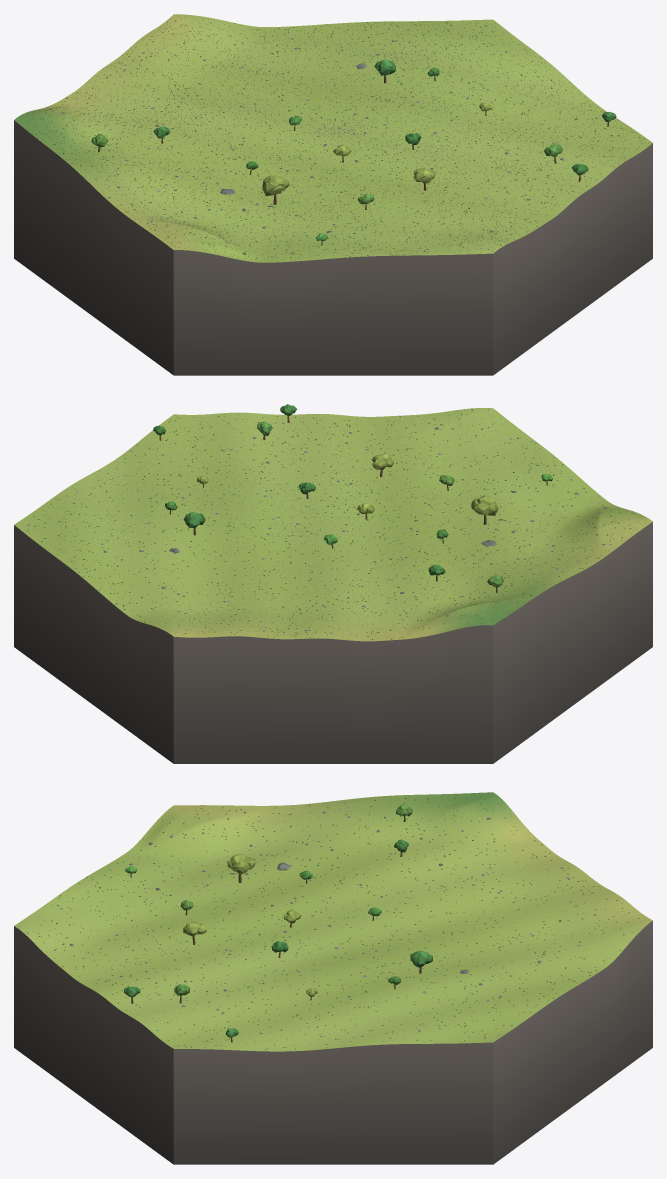
3 renders of one model, top to bottom at view 1: azimuth 30°, elevation 25°; view 2: azimuth 150°, elevation 25°; view 3: azimuth 270°, elevation 25°, orthographic.
Parts seen in each view (by area): view 1: terrain, hex_side_cut, wildflowers, shrubs, broadleaf_canopy, boulders; view 2: terrain, hex_side_cut, wildflowers, shrubs, broadleaf_canopy, boulders; view 3: terrain, hex_side_cut, shrubs, broadleaf_canopy, boulders.
Boxes of the visible parts, bbox=[...] form: terrain: bbox=[14, 14, 652, 262]; hex_side_cut: bbox=[14, 120, 652, 375]; wildflowers: bbox=[21, 15, 648, 261]; shrubs: bbox=[23, 18, 643, 259]; broadleaf_canopy: bbox=[91, 59, 616, 241]; boulders: bbox=[54, 18, 645, 255]; terrain: bbox=[14, 408, 652, 641]; hex_side_cut: bbox=[14, 522, 652, 763]; wildflowers: bbox=[23, 410, 645, 638]; shrubs: bbox=[26, 409, 641, 639]; broadleaf_canopy: bbox=[153, 404, 552, 587]; boulders: bbox=[24, 417, 611, 633]; terrain: bbox=[14, 792, 652, 1051]; hex_side_cut: bbox=[14, 921, 652, 1164]; shrubs: bbox=[18, 795, 639, 1049]; broadleaf_canopy: bbox=[124, 805, 432, 1037]; boulders: bbox=[54, 799, 641, 1046].
Bounding box in the file's own units: 4330 × 1257 × 5000.
